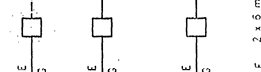Cable Termination Box: (85, 11, 118, 46), (180, 12, 213, 44), (16, 11, 46, 42)
